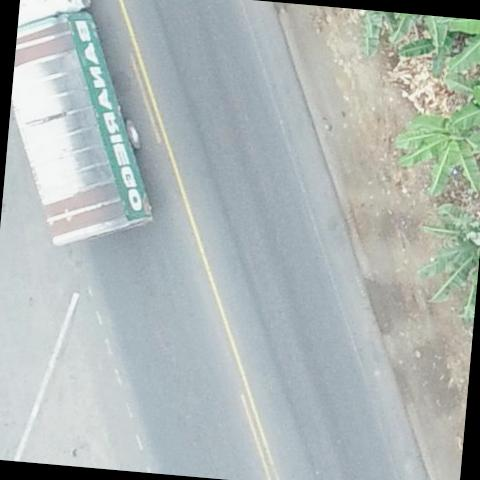Banana-plant: (383, 97, 480, 209)
